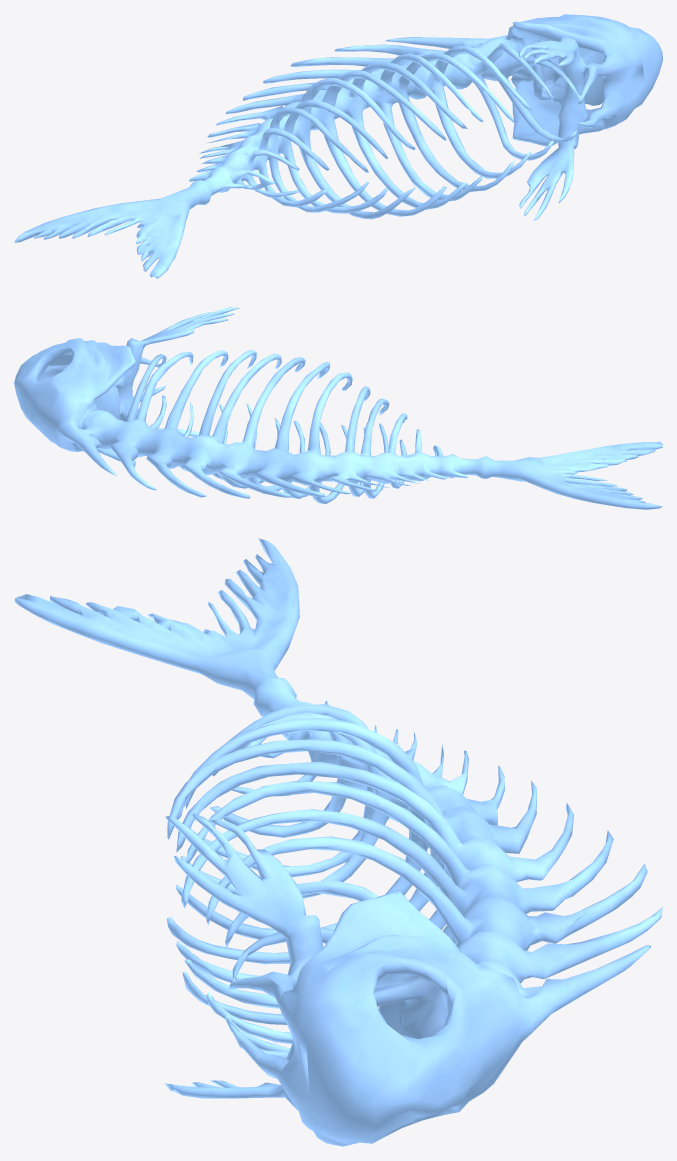
Rendered from glow_bone_rare.glb.
The picture shows the model from 3 angles, top to bottom: view 1: azimuth 30°, elevation 25°; view 2: azimuth 150°, elevation 25°; view 3: azimuth 270°, elevation 25°; orthographic projection. The views are drawn at different scales.
Parts seen in each view (by area): view 1: glow_bone_rare; view 2: glow_bone_rare; view 3: glow_bone_rare.
Part boxes in pixels (left/top/right/bottom): glow_bone_rare: left=14, top=14, right=662, bottom=278; glow_bone_rare: left=14, top=307, right=662, bottom=509; glow_bone_rare: left=14, top=538, right=662, bottom=1146.
Bounding box in the file's own units: 0.3 × 0.0677 × 0.1455.
1 material, 1 textured.
